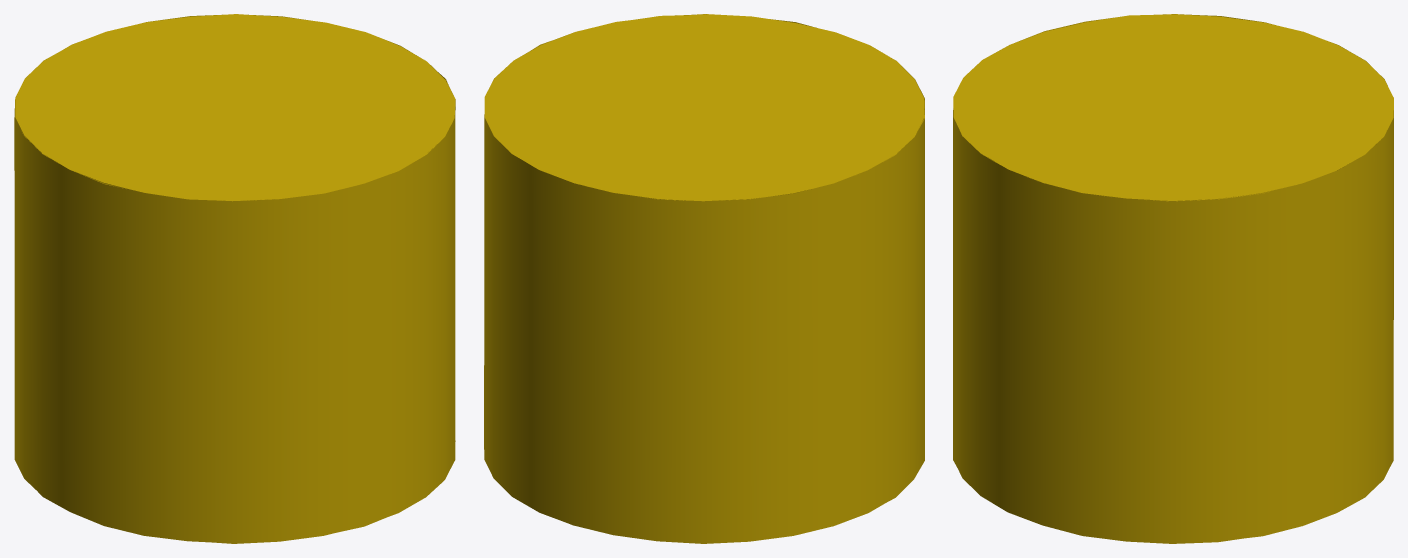
File: original-6.obj
3 views of the same model, side by side, from view 1: azimuth 30°, elevation 25°; view 2: azimuth 150°, elevation 25°; view 3: azimuth 270°, elevation 25° (orthographic).
Visible parts, largest first — view 1: group_3/ID46#ID46; view 2: group_3/ID46#ID46; view 3: group_3/ID46#ID46.
Boxes of the visible parts, x1,y1,x2,y2 form: group_3/ID46#ID46: (14, 14, 455, 543); group_3/ID46#ID46: (484, 14, 924, 543); group_3/ID46#ID46: (953, 14, 1393, 543).
Bounding box in the file's own units: 0.0871 × 0.0745 × 0.0866.
